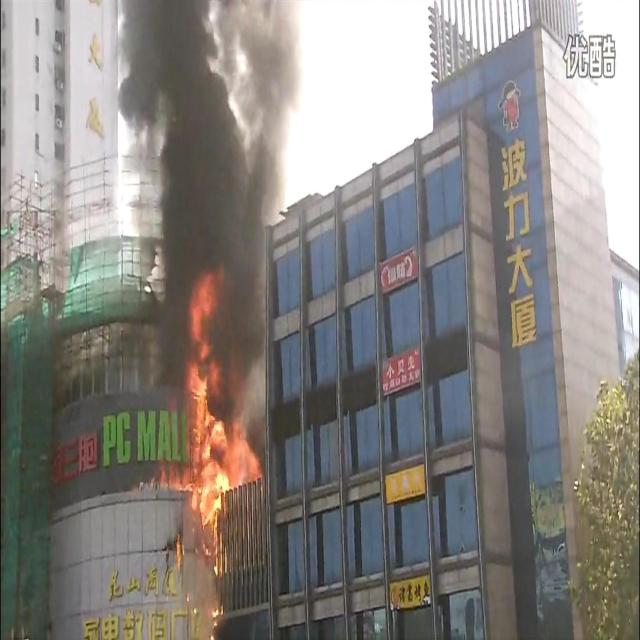fire: (163, 278, 261, 581)
smoke: (118, 0, 304, 203), (153, 137, 270, 342)
